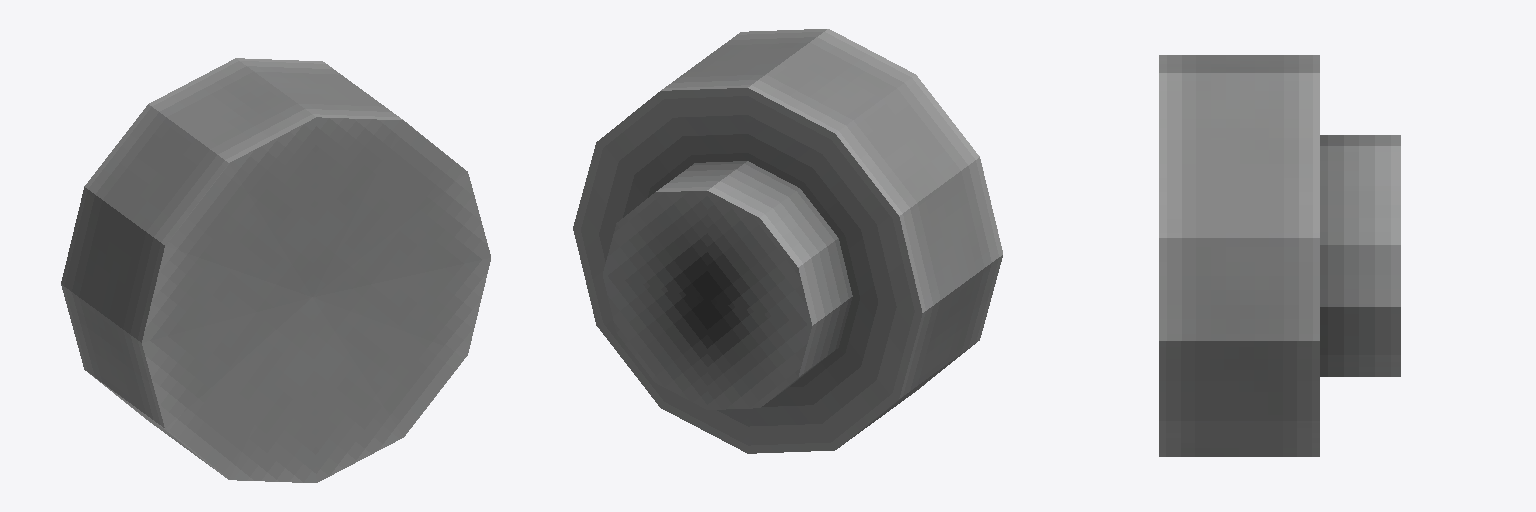
3 renders of one model, left to right at view 1: azimuth 30°, elevation 25°; view 2: azimuth 150°, elevation 25°; view 3: azimuth 270°, elevation 25°, orthographic.
Visible parts, largest first — view 1: cursa_base; view 2: cursa_base; view 3: cursa_base.
Part boxes in pixels (bbox=[...]): cursa_base: bbox=[61, 58, 490, 482]; cursa_base: bbox=[573, 29, 1002, 453]; cursa_base: bbox=[1159, 55, 1400, 456].
Bounding box in the file's own units: 0.125 × 0.125 × 0.075.
1 materials, 1 textured.